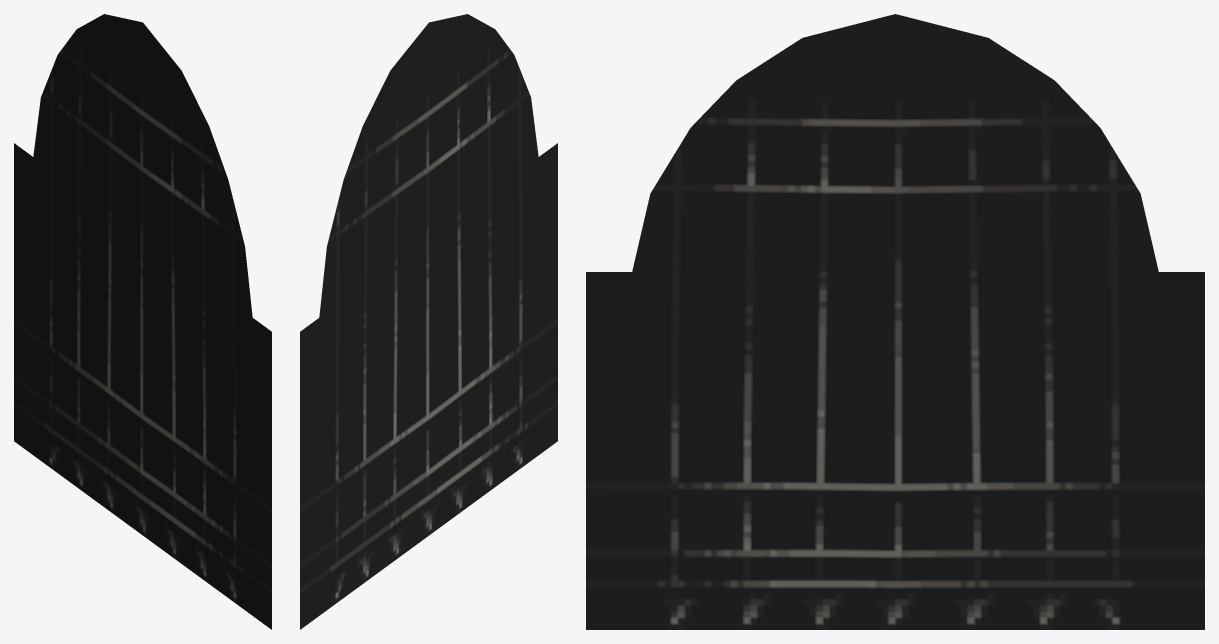
The model's file is EnvMdrMD_Castle_A_Door_B.FBX.
The picture shows the model from 3 angles, left to right: view 1: azimuth 30°, elevation 25°; view 2: azimuth 150°, elevation 25°; view 3: azimuth 270°, elevation 25°; orthographic projection. The views are drawn at different scales.
Visible parts, largest first — view 1: EnvMdrMD_Castle_A_Door_B; view 2: EnvMdrMD_Castle_A_Door_B; view 3: EnvMdrMD_Castle_A_Door_B.
Part boxes in pixels (box(x1,y1,x2,y2)): EnvMdrMD_Castle_A_Door_B: box(14, 14, 271, 629); EnvMdrMD_Castle_A_Door_B: box(300, 14, 557, 629); EnvMdrMD_Castle_A_Door_B: box(586, 14, 1204, 629).
Bounding box in the file's own units: 0 × 516 × 470.
1 material, 1 textured.
